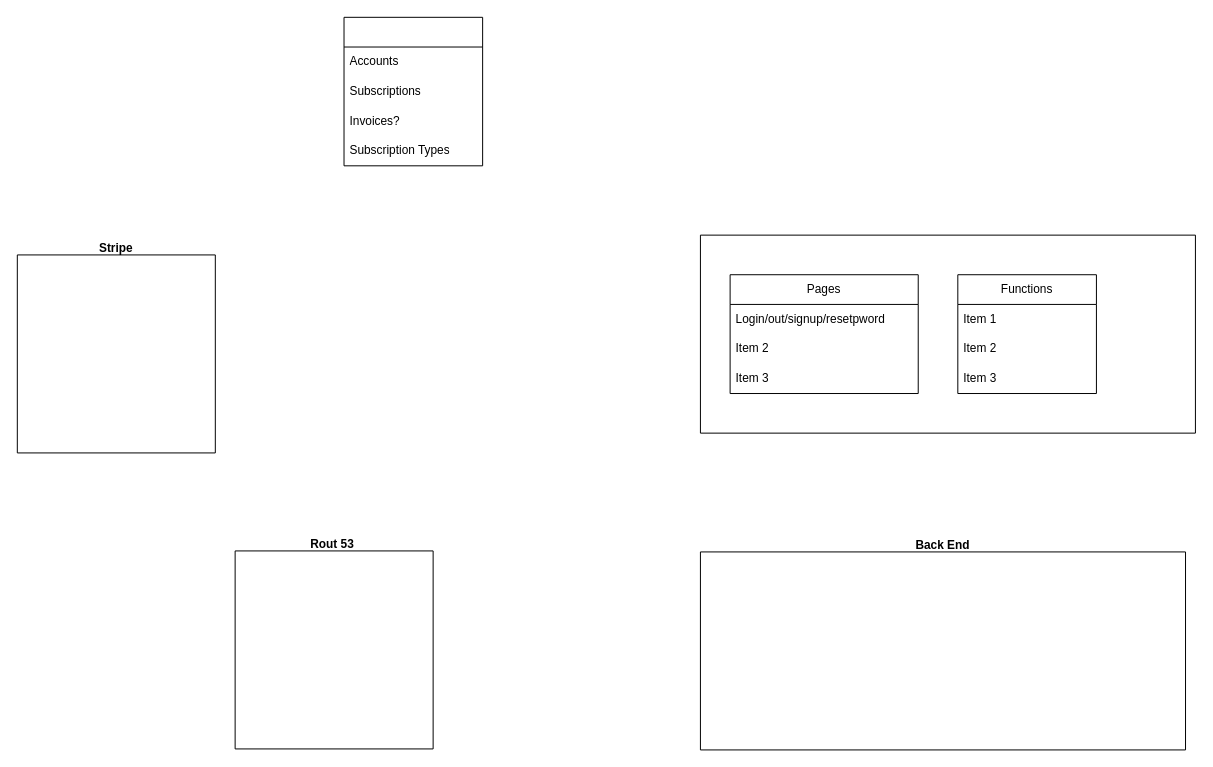
Image size: 1213x767. Some labels were removed from this diagram. Each missing label, with the box of its shape:
Application DB: (343, 16, 483, 166)
Front End: (699, 234, 1195, 433)
